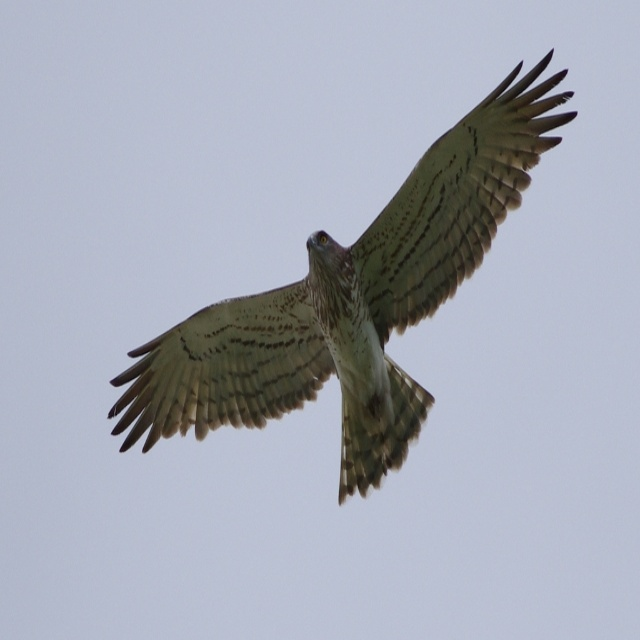Eagle: (106, 47, 578, 506)
